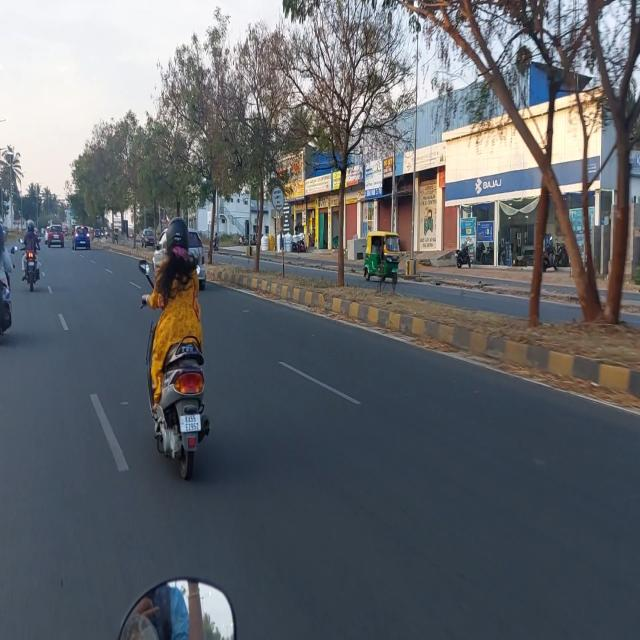bien_cam: (271, 186, 285, 212)
